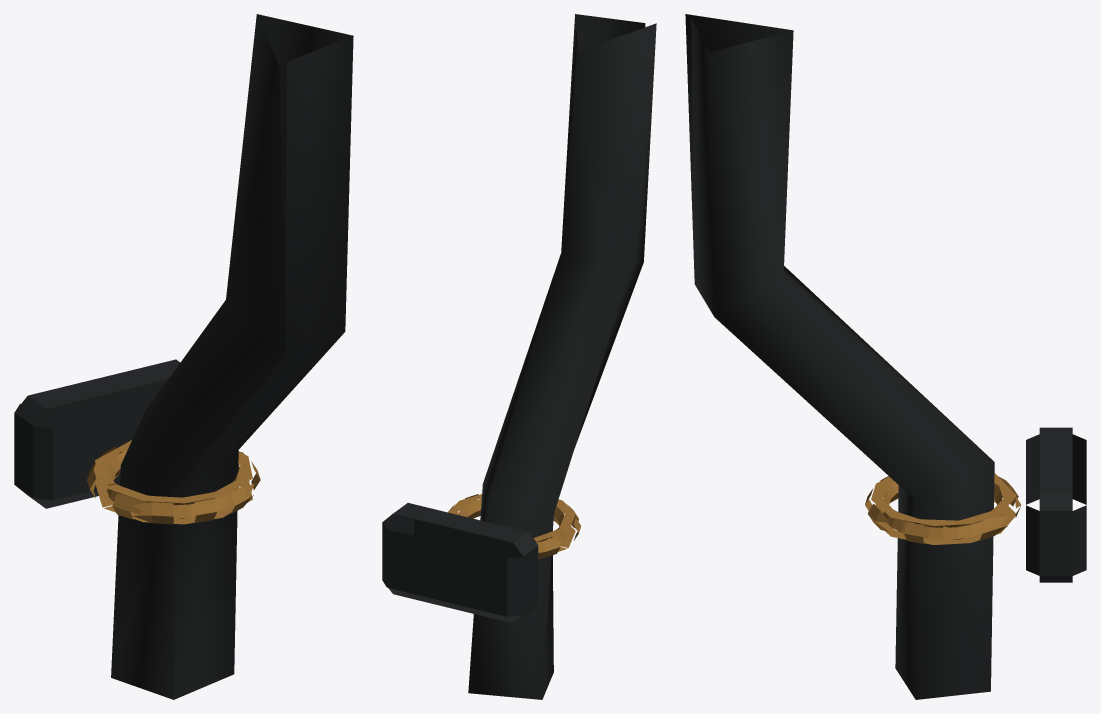
The model's file is DrainpipeOffset.glb.
The picture shows the model from 3 angles, left to right: view 1: azimuth 30°, elevation 25°; view 2: azimuth 150°, elevation 25°; view 3: azimuth 270°, elevation 25°; orthographic projection. The views are drawn at different scales.
Parts seen in each view (by area): view 1: BlackIronDrainpipe.001, PipeWallBracket.002, PipeCollar.002; view 2: BlackIronDrainpipe.001, PipeWallBracket.002, PipeCollar.002; view 3: BlackIronDrainpipe.001, PipeWallBracket.002, PipeCollar.002.
Part boxes in pixels (x1,y1,x2,y2): BlackIronDrainpipe.001: [111, 14, 353, 699]; PipeWallBracket.002: [14, 359, 180, 508]; PipeCollar.002: [87, 440, 260, 524]; BlackIronDrainpipe.001: [468, 14, 656, 699]; PipeWallBracket.002: [382, 503, 538, 623]; PipeCollar.002: [448, 494, 580, 558]; BlackIronDrainpipe.001: [685, 14, 994, 699]; PipeWallBracket.002: [1026, 427, 1086, 582]; PipeCollar.002: [865, 473, 1021, 544].
Bounding box in the file's own units: 0.33 × 1.3 × 0.7274.
